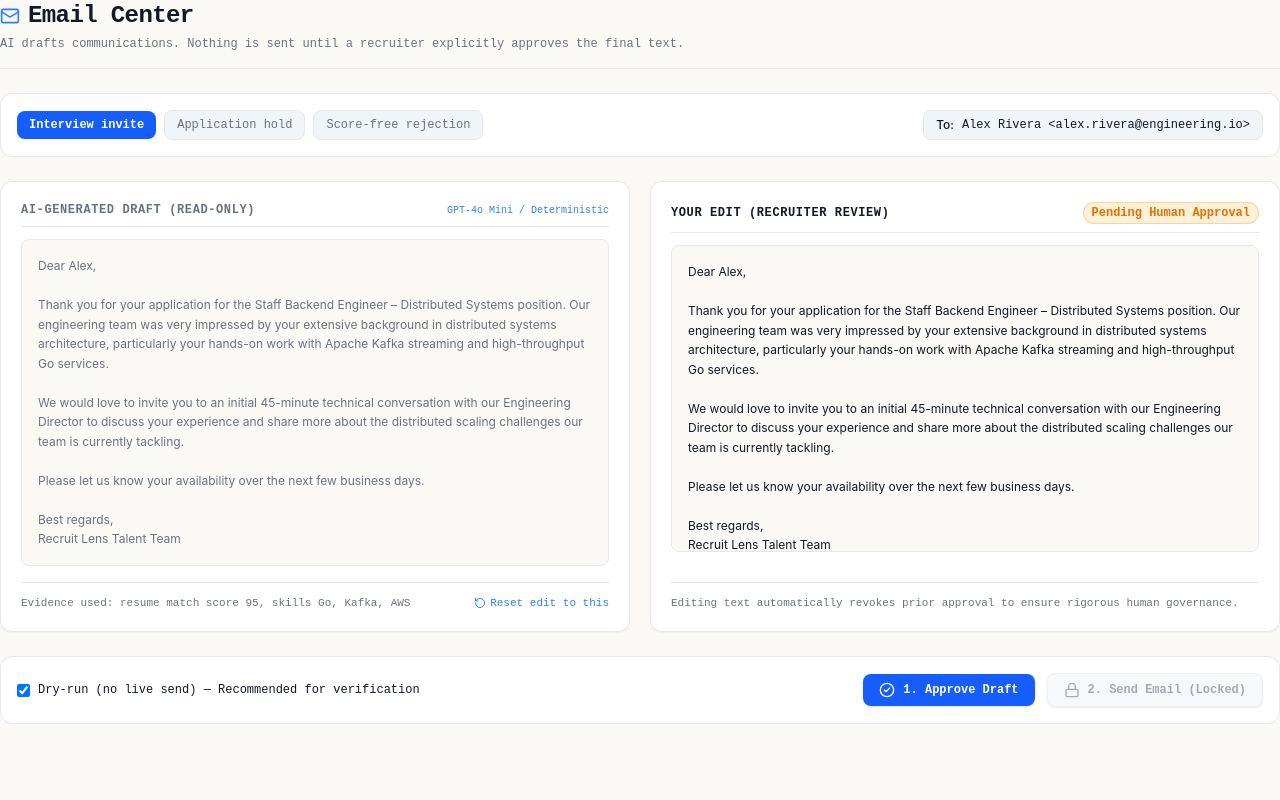
Test: Feature 4: Email Two-Step Approval Gate & Score-Free Rejection › strictly forbids numerical scores or rankings in adverse-action rejection drafts
# Switch to Score-free rejection tab
Click the button "Score-free rejection".
click(398, 125)  # box [313,110,483,140]
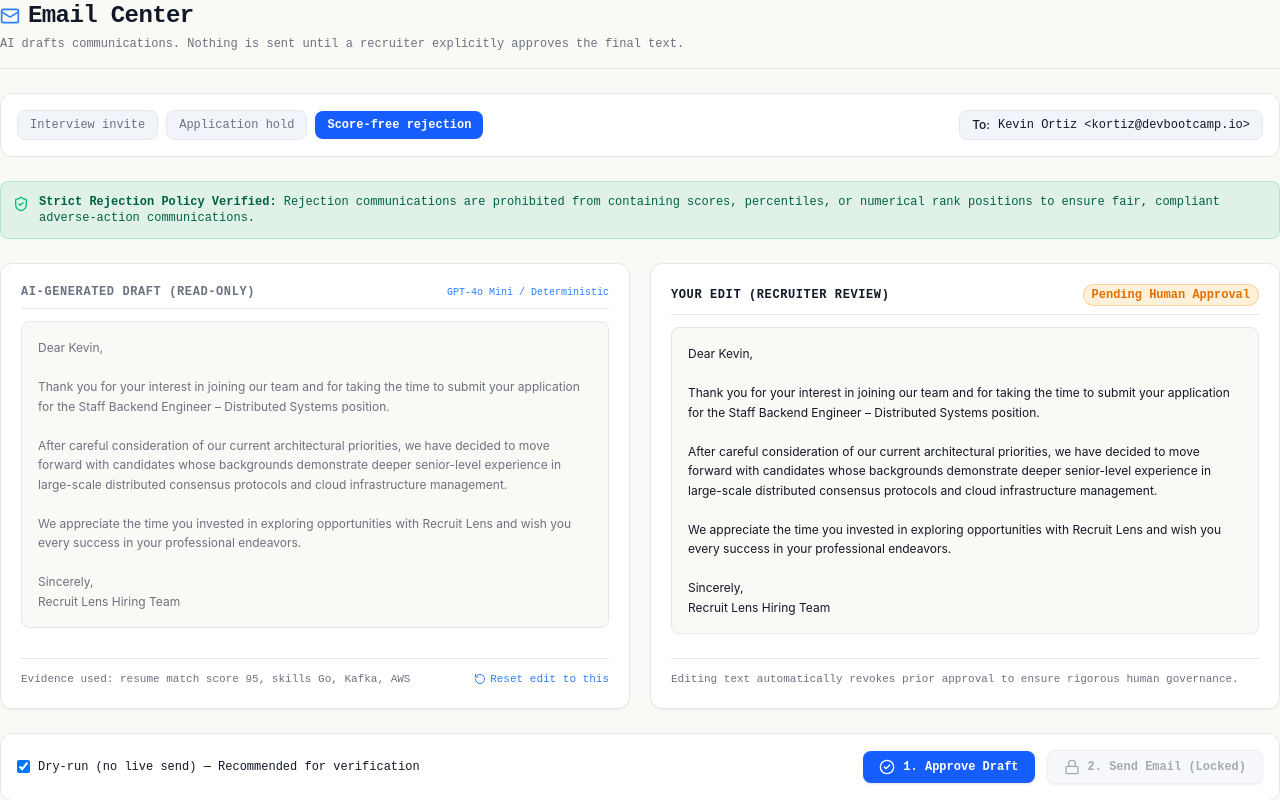
expect the text "Strict Rejection Policy Verified:" is shown: met, box [39,195,277,209]
# If user attempts to inject a score into the rejection email
Replace the text in the text box named "Edit Email Body" with "We regret to inform you that your score was 42/100." at [965, 480], box [671,327,1259,634]
(page scrolled)
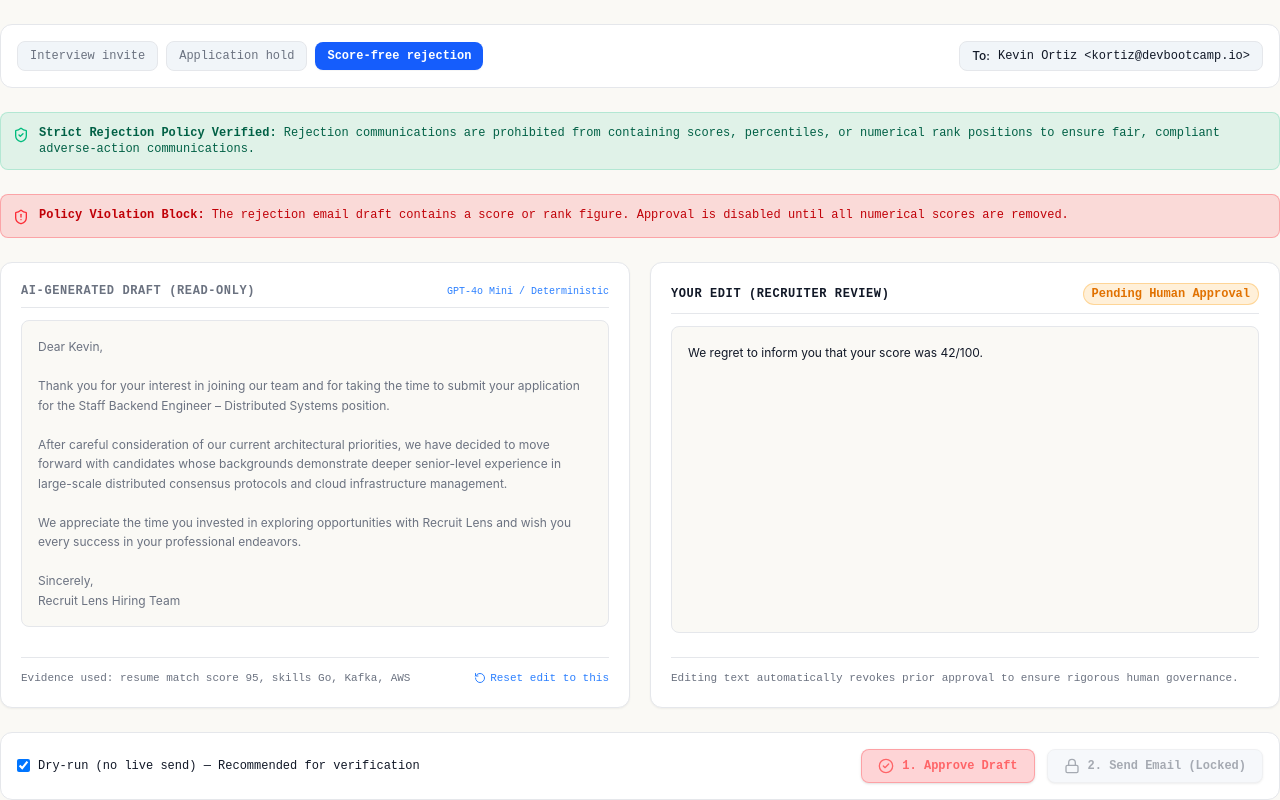
expect the text "Policy Violation Block:" is shown: met, box [39,208,205,222]
expect the button "1. Approve Draft" is disabled: met, box [861,748,1034,782]
